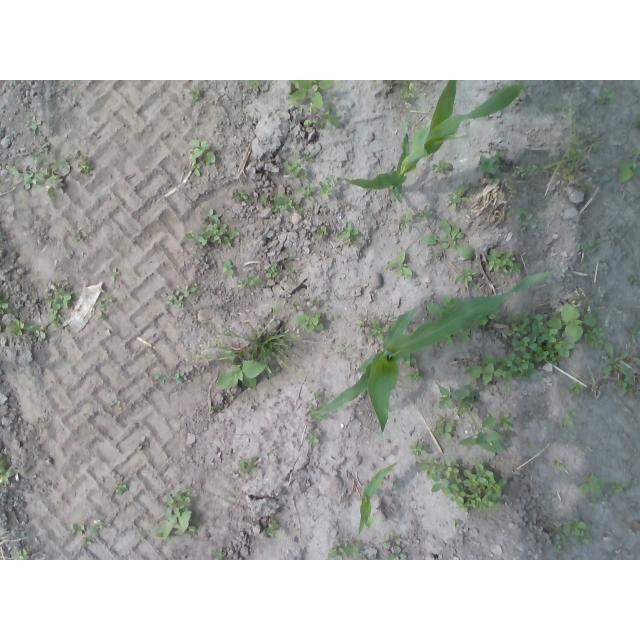Maize: (313, 273, 558, 440), (337, 81, 531, 204), (357, 463, 399, 537)
Weeds: (507, 297, 605, 365), (203, 315, 298, 382), (415, 456, 506, 512), (464, 354, 540, 393), (154, 487, 197, 540), (459, 413, 513, 455), (24, 150, 72, 197), (216, 350, 269, 391), (419, 220, 473, 260), (185, 209, 239, 248), (603, 342, 640, 397), (436, 382, 485, 416), (287, 80, 335, 113), (45, 284, 72, 332), (188, 139, 217, 177), (555, 516, 593, 544), (69, 521, 104, 551), (485, 249, 523, 276), (354, 316, 390, 343), (5, 319, 47, 341), (616, 145, 640, 182), (478, 151, 504, 185), (379, 532, 409, 560), (578, 474, 606, 504), (283, 154, 313, 182), (423, 293, 459, 316), (167, 285, 198, 308), (469, 308, 500, 330), (387, 254, 413, 279), (271, 194, 303, 214), (295, 313, 325, 334), (447, 185, 470, 212), (327, 541, 359, 560), (440, 329, 472, 348), (74, 148, 94, 176), (1, 458, 20, 486), (514, 206, 539, 227), (433, 417, 456, 439), (320, 105, 340, 130), (337, 222, 360, 241), (317, 174, 335, 198), (238, 455, 259, 475), (409, 441, 434, 457), (305, 404, 327, 421), (455, 268, 477, 285), (296, 183, 315, 202), (264, 517, 280, 539), (567, 379, 585, 397), (596, 88, 616, 104), (399, 210, 414, 231), (239, 273, 261, 287), (0, 294, 14, 315), (414, 205, 432, 221), (401, 81, 416, 100), (231, 189, 251, 203), (405, 370, 426, 383), (580, 240, 596, 257), (25, 114, 38, 134), (184, 84, 200, 100), (283, 268, 298, 285), (431, 161, 449, 175), (560, 412, 576, 427), (400, 352, 417, 366), (222, 259, 234, 277), (266, 261, 278, 279), (611, 482, 628, 494), (305, 433, 319, 447), (211, 548, 226, 561), (628, 320, 640, 336), (12, 549, 29, 560), (97, 296, 112, 308), (576, 125, 592, 136), (111, 268, 121, 285), (175, 369, 186, 384), (115, 482, 128, 494), (627, 276, 640, 288), (552, 459, 565, 470), (316, 226, 327, 239), (155, 372, 166, 384), (8, 167, 20, 177), (273, 304, 282, 317), (260, 193, 269, 204), (73, 233, 83, 242), (313, 391, 322, 401), (303, 119, 317, 125), (454, 521, 463, 530), (636, 113, 640, 131), (247, 80, 260, 85), (555, 543, 562, 551), (115, 398, 122, 406), (529, 444, 536, 449), (211, 407, 215, 414)
